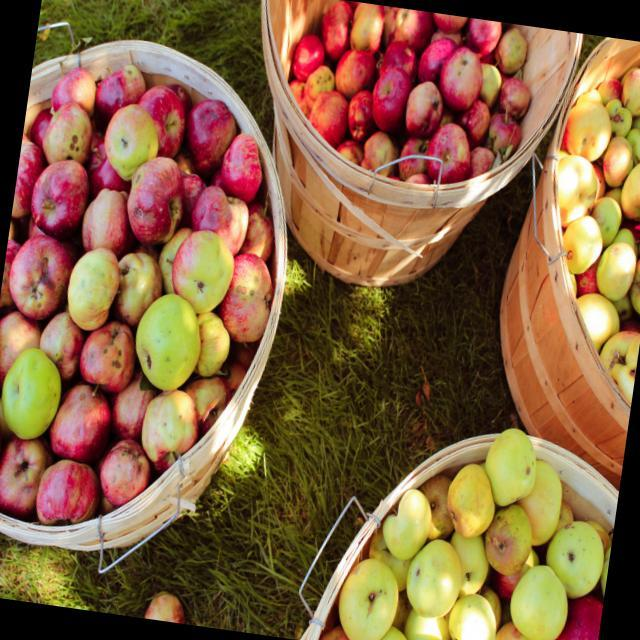APPLE: (130, 289, 207, 391), (125, 154, 193, 246), (0, 347, 66, 439), (172, 231, 240, 314), (36, 448, 98, 532), (8, 232, 71, 312), (132, 82, 195, 161), (26, 154, 88, 232), (65, 250, 126, 328), (50, 381, 110, 456), (0, 430, 46, 512), (100, 439, 152, 504), (80, 190, 128, 251)
